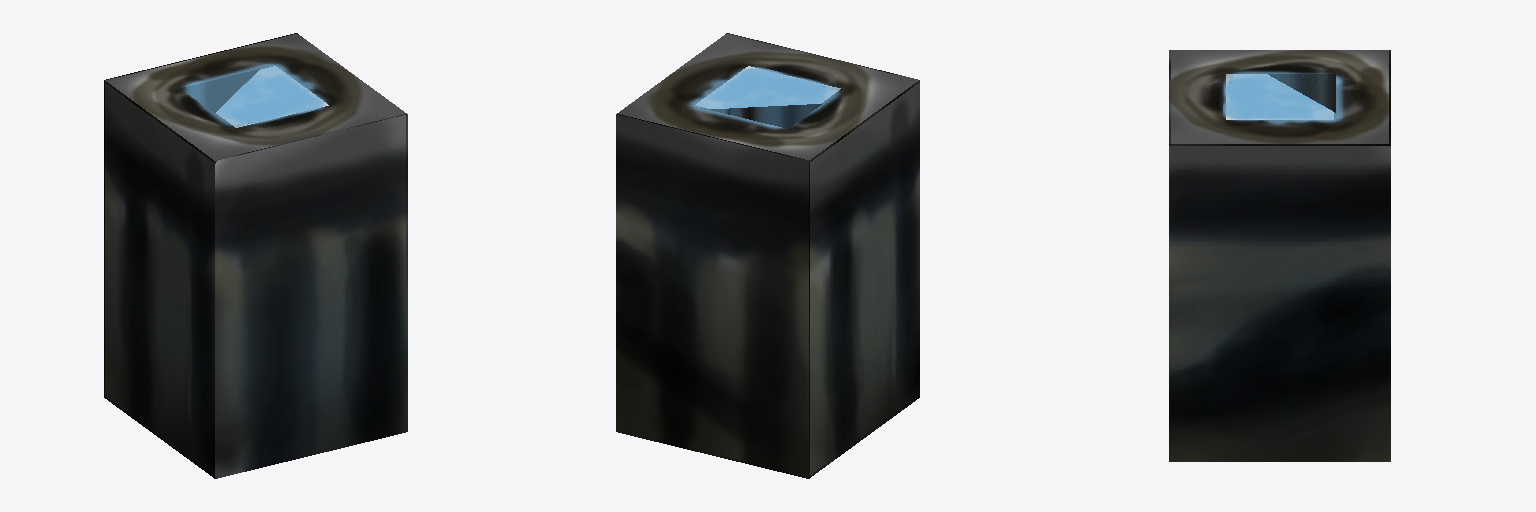
The picture shows the model from 3 angles: view 1: azimuth 30°, elevation 25°; view 2: azimuth 150°, elevation 25°; view 3: azimuth 270°, elevation 25°; orthographic projection.
Parts seen in each view (by area): view 1: Cube.001; view 2: Cube.001; view 3: Cube.001.
Part boxes in pixels (left/top/right/bottom): Cube.001: left=104, top=33, right=407, bottom=478; Cube.001: left=616, top=33, right=919, bottom=478; Cube.001: left=1169, top=50, right=1390, bottom=461.
Size of the model in its own units: 1.23 by 1.94 by 1.23.
Materials: 1 (1 with a texture image).